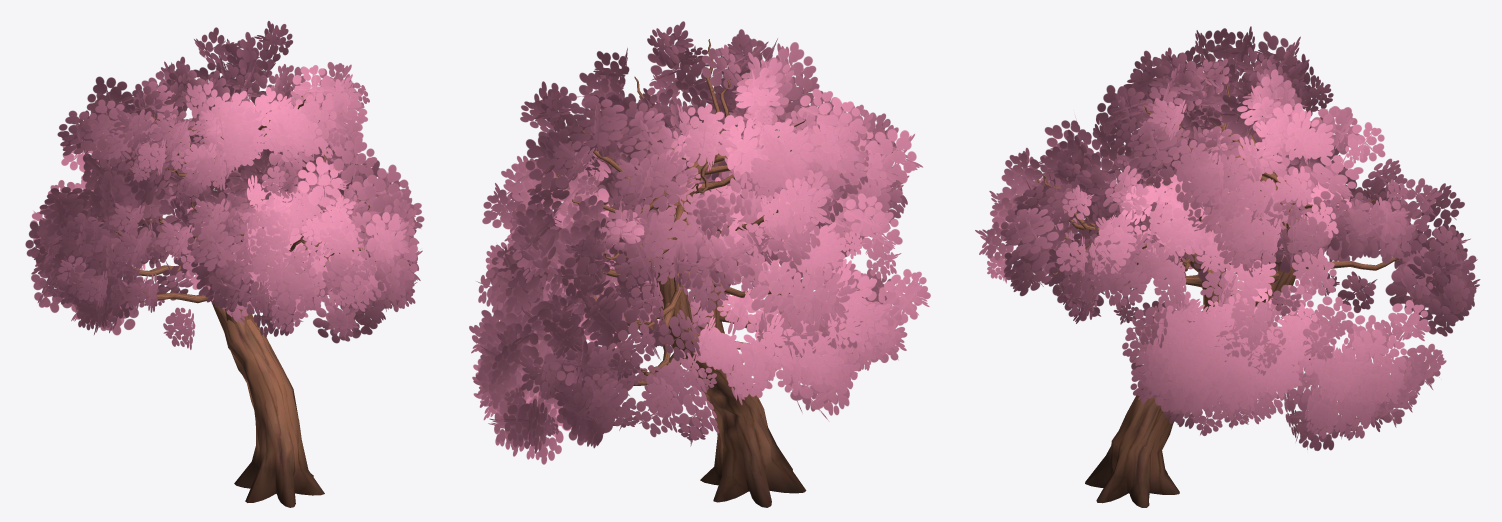
The model's file is tree-wedding-1-mature.glb.
The picture shows the model from 3 angles, left to right: view 1: azimuth 30°, elevation 25°; view 2: azimuth 150°, elevation 25°; view 3: azimuth 270°, elevation 25°; orthographic projection. The views are drawn at different scales.
Parts seen in each view (by area): view 1: CherryBlossom_1; view 2: CherryBlossom_1; view 3: CherryBlossom_1.
Part boxes in pixels (x1,y1,x2,y2): CherryBlossom_1: (25, 21, 424, 507); CherryBlossom_1: (469, 21, 930, 507); CherryBlossom_1: (975, 26, 1480, 507).
Size of the model in its own units: 4.84 by 5.35 by 5.87.
Materials: 2 (2 with a texture image).
